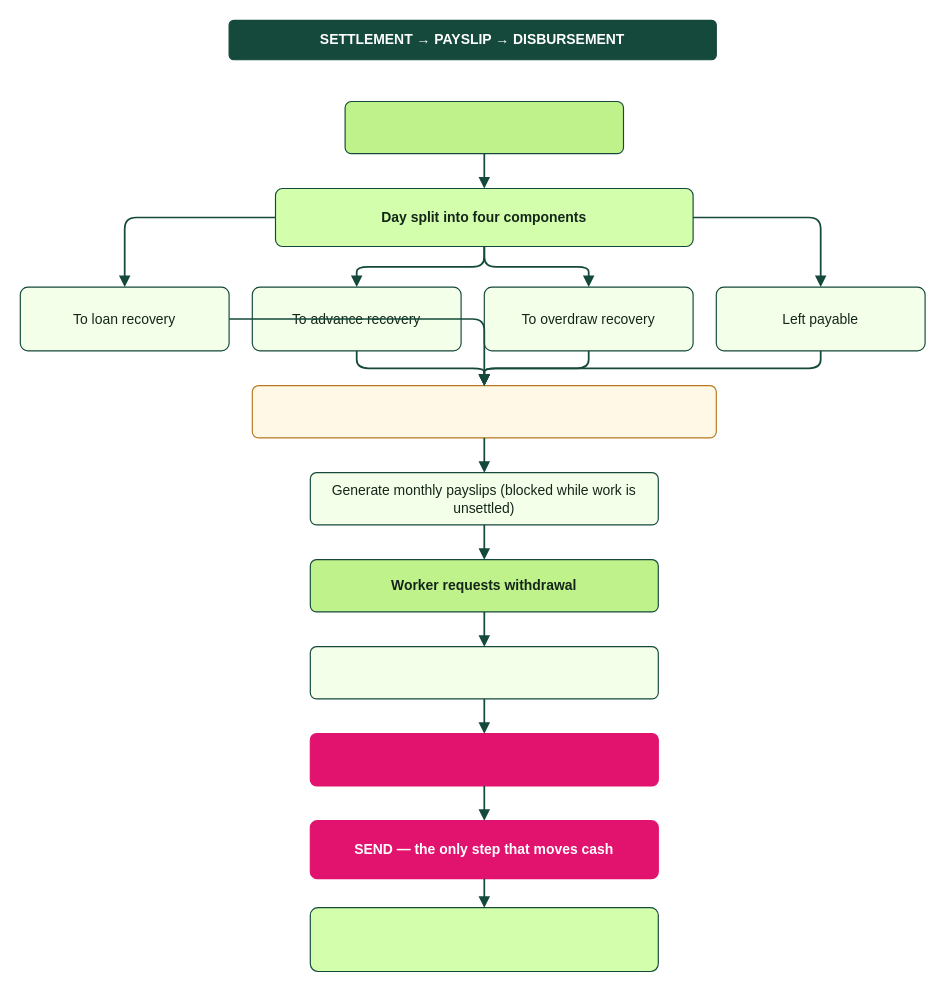
Some shapes in this 945 by 992 pixel diagram are drawn without their labels. Here are the shapes that lost their labels. From the top down, the centre of each, then its label:
pixel 484 127: Close today & settle
pixel 483 411: These four reconcile to the amount earned NO CASH HAS MOVED
pixel 483 672: Approve → payout slip (CSV) STILL no cash movement
pixel 483 759: bKash Payout: upload slip → run built
pixel 483 939: Cash on hand falls · ledger row written · worker notified in Bangla
